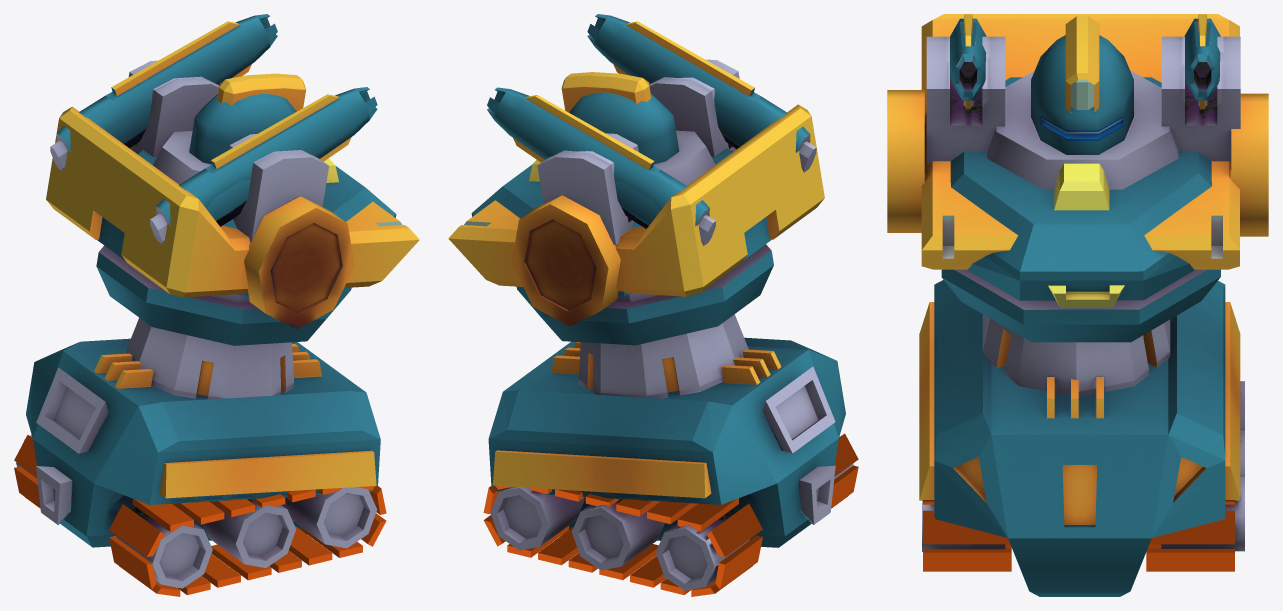
Rendered from Player_Move7.obj.
The picture shows the model from 3 angles, left to right: view 1: azimuth 30°, elevation 25°; view 2: azimuth 150°, elevation 25°; view 3: azimuth 270°, elevation 25°; orthographic projection. The views are drawn at different scales.
Visible parts, largest first — view 1: Object004, Object014, Box009, Box017, Box016; view 2: Object004, Object014, Box009, Box016, Box017; view 3: Object004, Object014, Box017, Box016, Box009.
Boxes of the visible parts, x1=… form: Object004: x1=26, y1=60, x2=419, y2=547; Object014: x1=50, y1=14, x2=377, y2=244; Box009: x1=16, y1=435, x2=377, y2=588; Box017: x1=109, y1=485, x2=386, y2=596; Box016: x1=14, y1=435, x2=40, y2=508; Object004: x1=448, y1=59, x2=845, y2=547; Object014: x1=487, y1=14, x2=816, y2=245; Box009: x1=490, y1=464, x2=853, y2=590; Box016: x1=483, y1=485, x2=762, y2=596; Box017: x1=831, y1=433, x2=858, y2=508; Object004: x1=887, y1=14, x2=1268, y2=596; Object014: x1=950, y1=14, x2=1220, y2=109; Box017: x1=923, y1=500, x2=1011, y2=571; Box016: x1=1146, y1=500, x2=1234, y2=571; Box009: x1=922, y1=381, x2=1244, y2=551.
Bounding box in the file's own units: 60.24 × 83.2 × 52.49.
